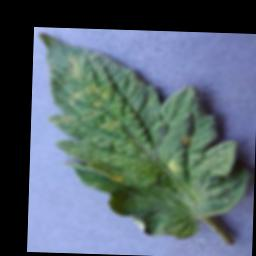Leaf_Mold: (67, 83, 108, 111), (97, 117, 125, 131), (110, 172, 128, 185), (169, 157, 182, 175), (180, 133, 192, 148)
